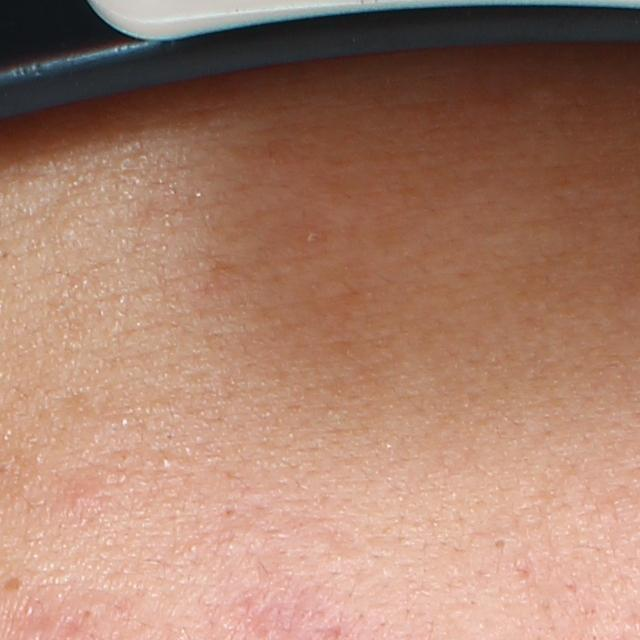comedo: (492, 535, 512, 552)
